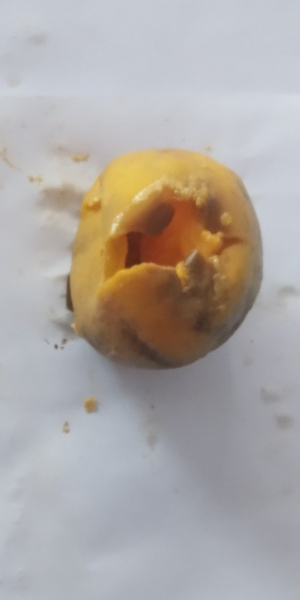BAD: (75, 149, 263, 373)
